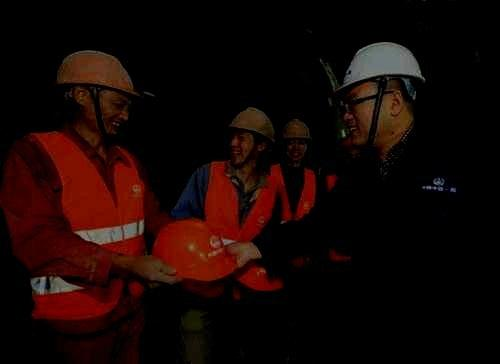helmet: (332, 42, 426, 146), (53, 49, 138, 136), (229, 107, 275, 168), (279, 118, 312, 161)
